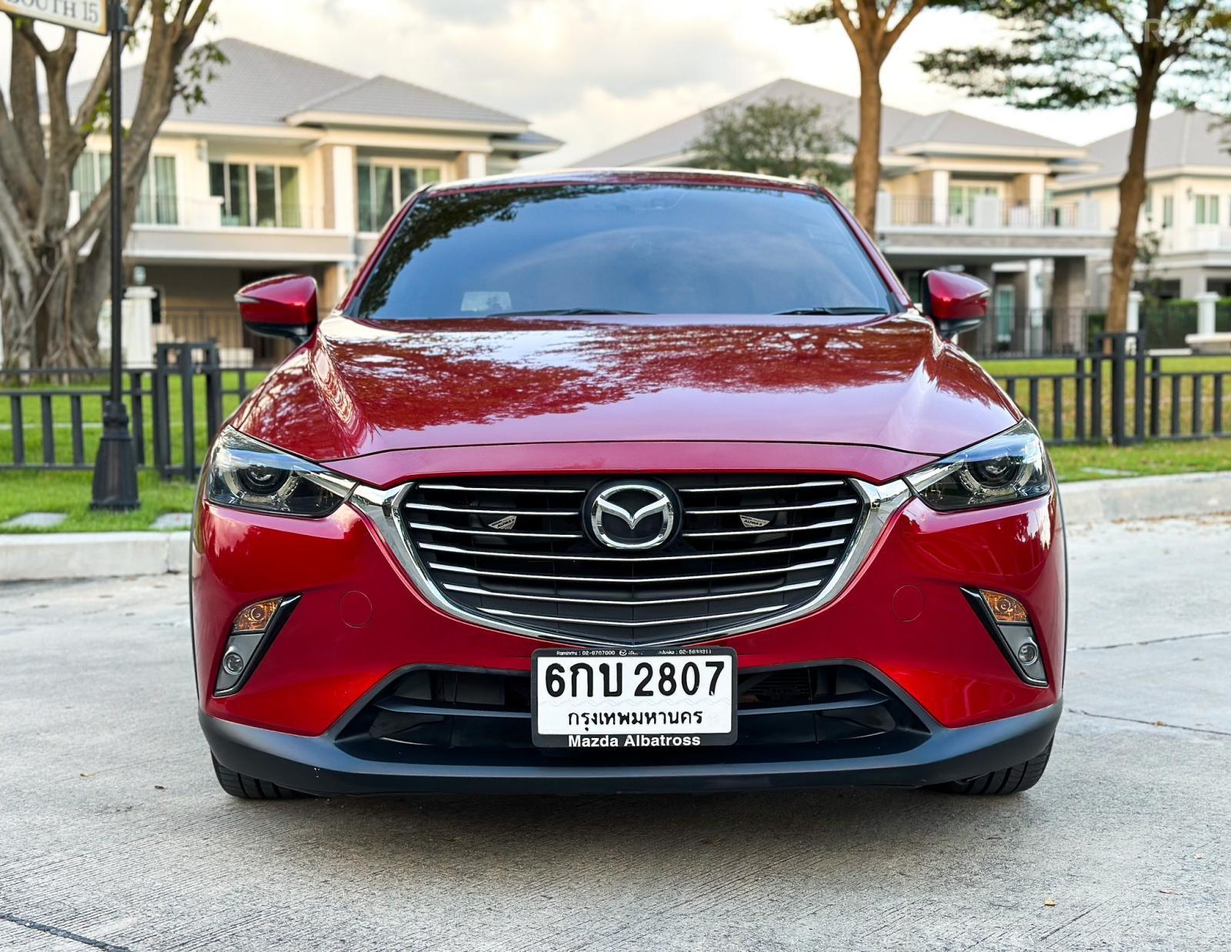license-plate: (525, 639, 741, 754)
